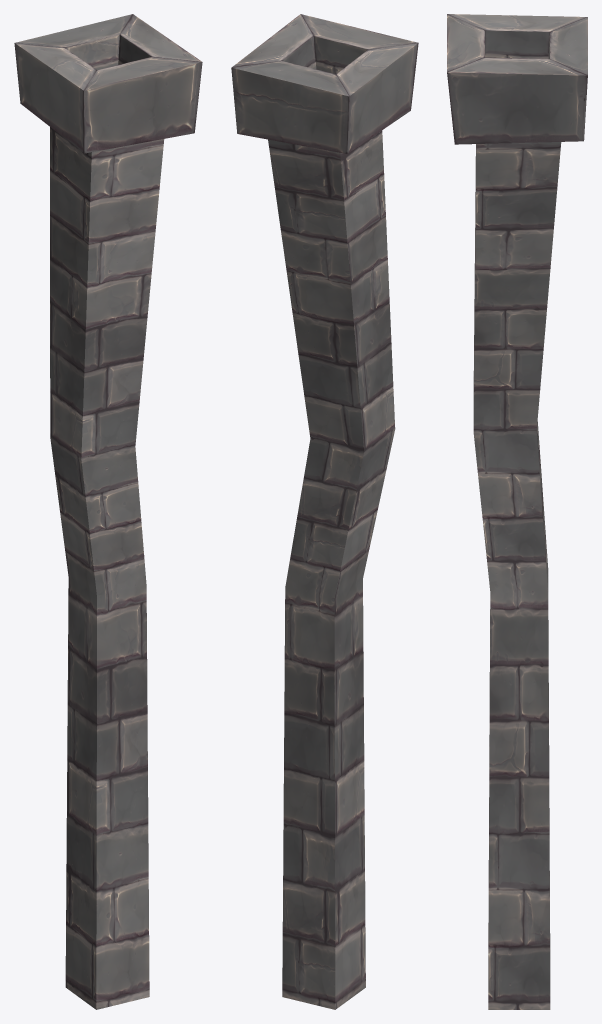
Rendered from SM_BLD_chimney_v02_01.fbx.
3 views of the same model, side by side, from view 1: azimuth 30°, elevation 25°; view 2: azimuth 150°, elevation 25°; view 3: azimuth 270°, elevation 25° (orthographic).
Visible parts, largest first — view 1: SM_BLD_chimney_v02_01; view 2: SM_BLD_chimney_v02_01; view 3: SM_BLD_chimney_v02_01.
Boxes of the visible parts, x1=… form: SM_BLD_chimney_v02_01: x1=14, y1=14, x2=202, y2=1009; SM_BLD_chimney_v02_01: x1=231, y1=14, x2=418, y2=1009; SM_BLD_chimney_v02_01: x1=447, y1=14, x2=587, y2=1009.
Size of the model in its own units: 136 by 1031 by 138.
